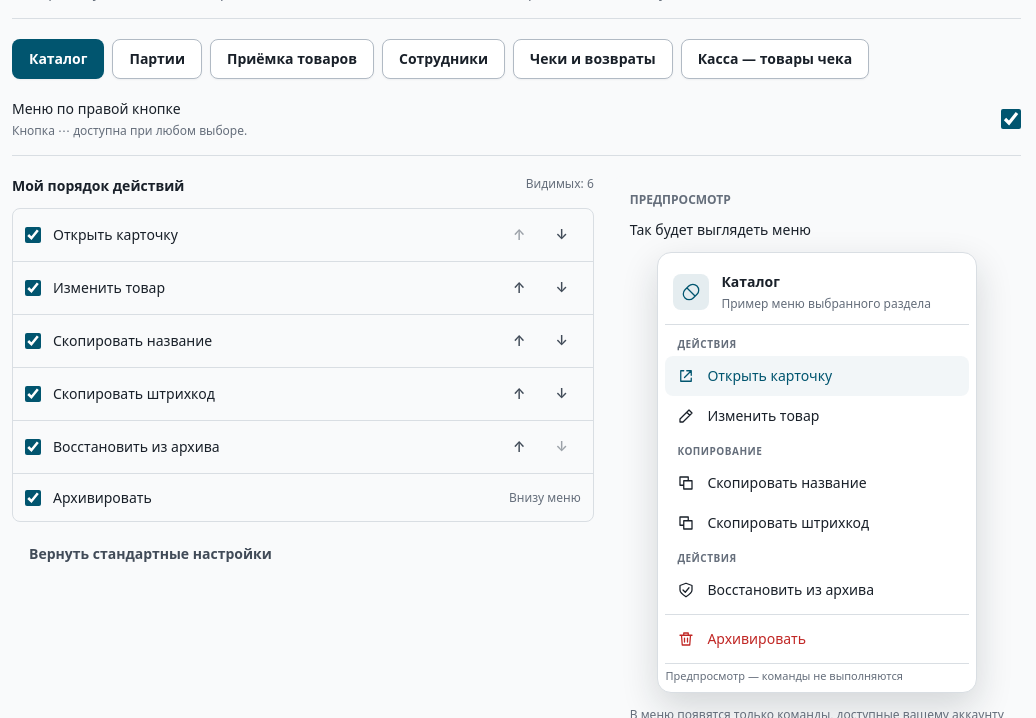
Test: QuickActionsSettingsPanel › previews drafts and cancels without saving or applying them
What coordinates should you click on to do the following:
click the checkbox named "Показывать в меню: Изменить товар"
I would click on:
 (33, 288)
Its box is [25, 280, 41, 296].
(page scrolled)
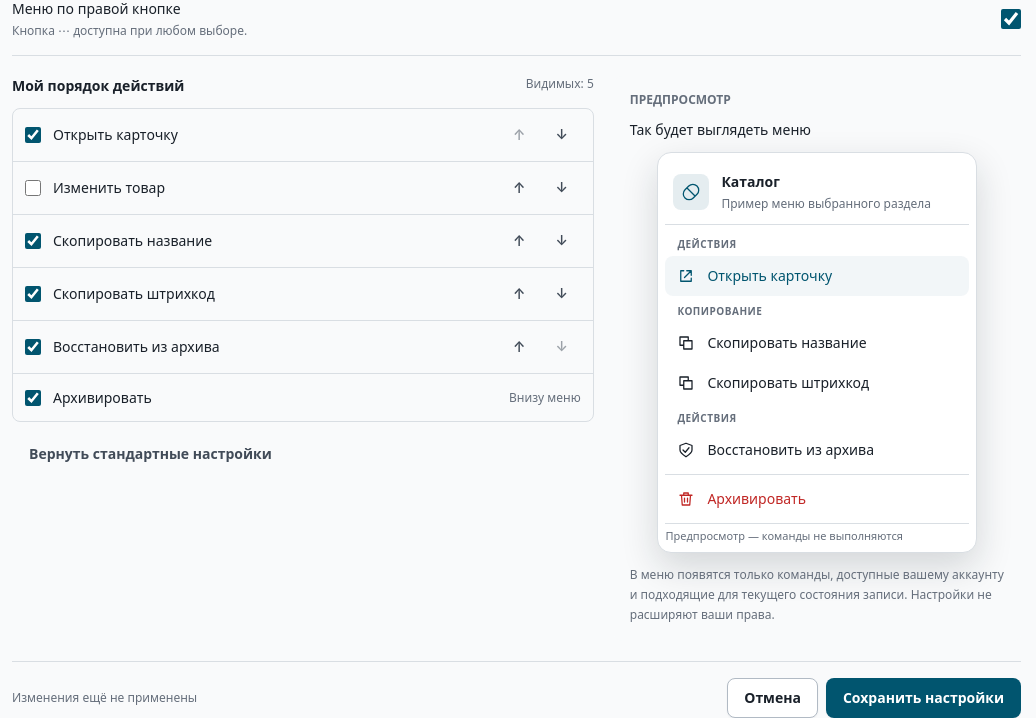
What coordinates should you click on to do the following:
click the button "Отмена"
I would click on:
 (773, 698)
Its box is [727, 678, 818, 717].
(page scrolled)
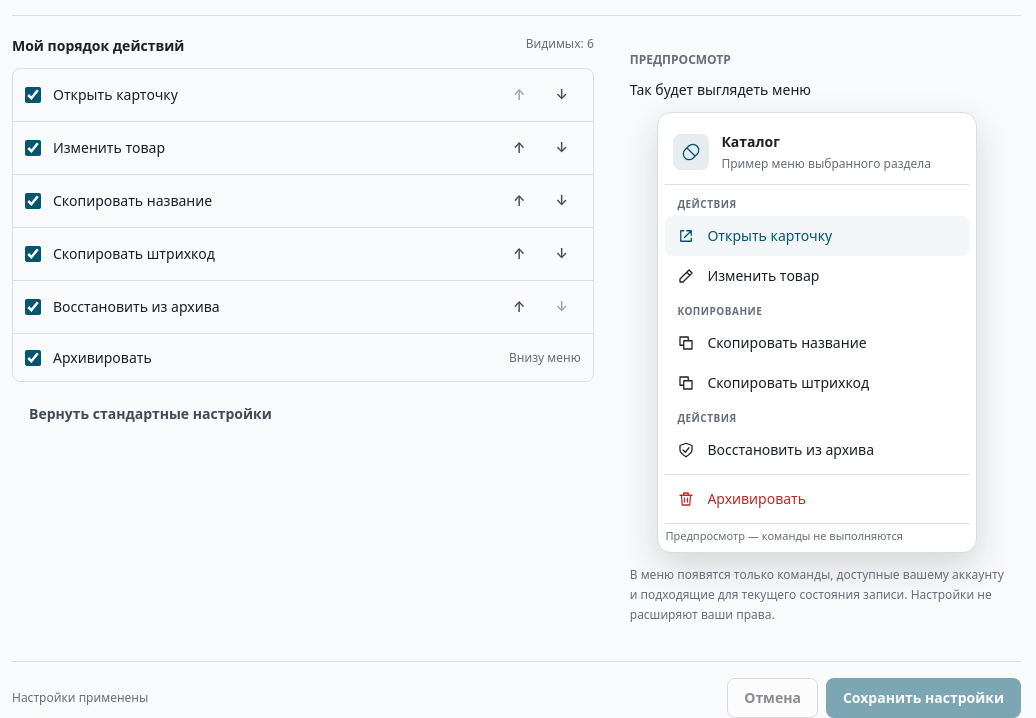
Expected: the text "Изменить товар" below "Пример меню выбранного раздела" is shown, [707, 266, 819, 285]
Expected: the button "Сохранить настройки" is disabled, [826, 678, 1021, 717]
